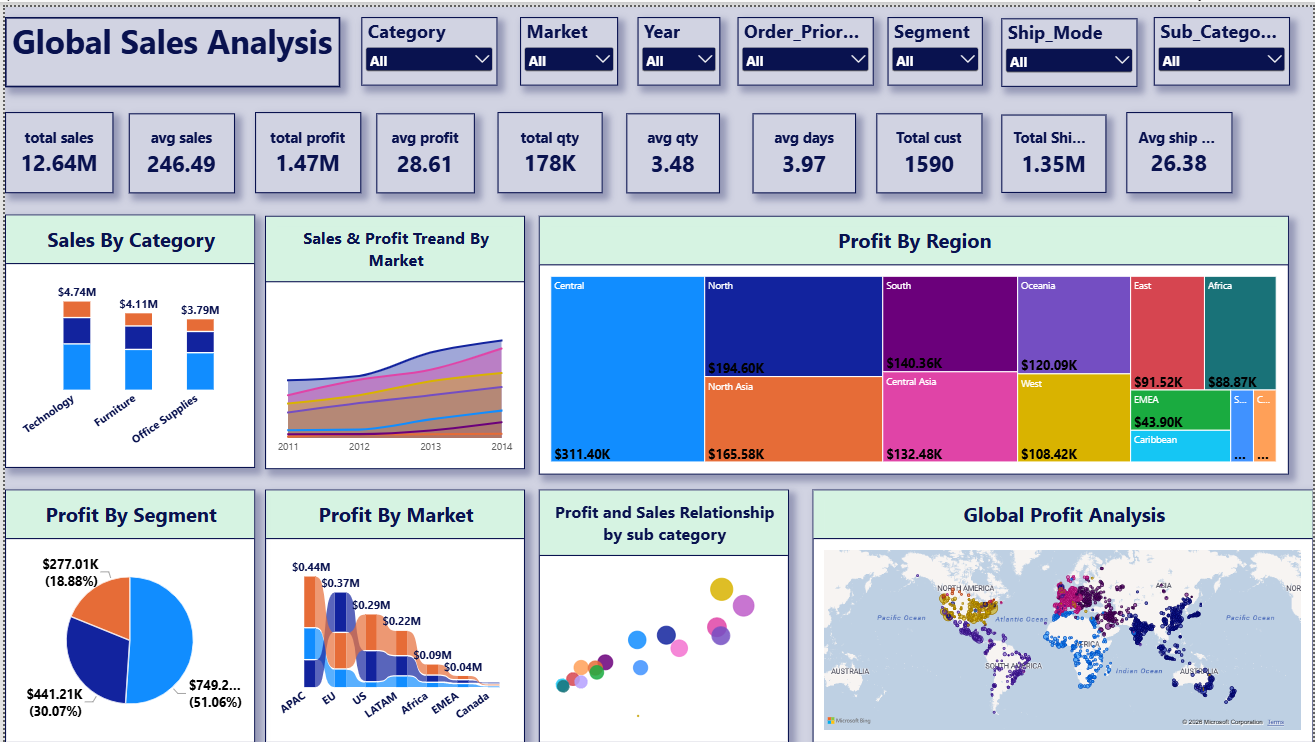

What the dashboard file says about the page in this screenshot:
{"tool":"powerbi","page":{"name":"Overall Dashboard","canvas":[1920,1080],"ordinal":0},"visuals":[{"type":"textbox","box":[0,14.4,491.9,102.9],"z":0},{"type":"slicer","fields":{"Values":["Global Superstore.Category"]},"box":[522.8,14.4,199.7,100.9],"z":1000},{"type":"slicer","fields":{"Values":["Global Superstore.Market"]},"box":[755.4,14.4,144.1,100.9],"z":2000},{"type":"slicer","fields":{"Values":["Global Superstore.Order_Date.Variation.Date Hierarchy.Year"]},"box":[928.3,14.4,121.4,100.9],"z":3000},{"type":"slicer","fields":{"Values":["Global Superstore.Order_Priority"]},"box":[1074.4,14.4,199.7,100.9],"z":4000},{"type":"slicer","fields":{"Values":["Global Superstore.Segment"]},"box":[1294.7,14.4,140,100.9],"z":5000},{"type":"slicer","fields":{"Values":["Global Superstore.Sub_Category"]},"box":[1685.8,14.4,199.7,100.9],"z":6000},{"type":"slicer","fields":{"Values":["Global Superstore.Ship_Mode"]},"box":[1461.4,16.5,199.7,100.9],"z":7000},{"type":"columnChart","title":"Sales By Category","fields":{"Category":["Global Superstore.Category"],"Series":["Global Superstore.Segment"],"Y":["Sum(Global Superstore.Sales)"]},"box":[0,304.5,366.8,372.4],"z":8000},{"type":"cardVisual","fields":{"Data":["Global Superstore.total sales"]},"box":[0,154.1,159.6,119.2],"z":9000},{"type":"cardVisual","fields":{"Data":["Global Superstore.avg sales"]},"box":[181.6,155.9,155.9,117.4],"z":10000},{"type":"cardVisual","fields":{"Data":["Global Superstore.total profit"]},"box":[366.8,154.1,155.9,119.2],"z":11000},{"type":"cardVisual","fields":{"Data":["Global Superstore.avg profit"]},"box":[544.8,155.9,144.9,117.4],"z":12000},{"type":"cardVisual","fields":{"Data":["Global Superstore.total qty"]},"box":[722.7,154.1,154.1,119.2],"z":13000},{"type":"cardVisual","fields":{"Data":["Global Superstore.avg qty"]},"box":[911.6,155.9,137.6,117.4],"z":14000},{"type":"cardVisual","fields":{"Data":["Global Superstore.avg days"]},"box":[1096.9,155.9,152.2,117.4],"z":15000},{"type":"cardVisual","fields":{"Data":["Global Superstore.Total cust"]},"box":[1278.5,155.9,155.9,117.4],"z":16000},{"type":"cardVisual","fields":{"Data":["Global Superstore.Total Shipcost"]},"box":[1461.9,157.7,154.1,115.6],"z":17000},{"type":"cardVisual","fields":{"Data":["Global Superstore.Avg ship cost"]},"box":[1645.3,154.1,155.9,119.2],"z":18000},{"type":"ribbonChart","title":"Profit By Market","fields":{"Category":["Global Superstore.Market"],"Series":["Global Superstore.Category"],"Y":["Sum(Global Superstore.Profit)"]},"box":[381.5,708,381.5,372.4],"z":19000},{"type":"treemap","title":"Profit By Region","fields":{"Group":["Global Superstore.Region"],"Values":["Sum(Global Superstore.Profit)"]},"box":[783.2,306.3,1100.5,379.7],"z":20000},{"type":"scatterChart","title":"Profit and Sales Relationship by sub category","fields":{"Category":["Global Superstore.Sub_Category"],"Series":["Global Superstore.Sub_Category"],"Size":["Sum(Global Superstore.Profit)"],"X":["Sum(Global Superstore.Sales)"],"Y":["Sum(Global Superstore.Profit)"]},"box":[783.2,708,366.8,372.4],"z":21000},{"type":"map","title":"Global Profit Analysis ","fields":{"Category":["Global Superstore.City","Global Superstore.Country"],"Series":["Global Superstore.Market"],"Size":["Sum(Global Superstore.Profit)"]},"box":[1184.9,708,735.5,372.4],"z":22000},{"type":"pieChart","title":"Profit By Segment","fields":{"Category":["Global Superstore.Segment"],"Y":["Sum(Global Superstore.Profit)"]},"box":[0,708,366.8,372.4],"z":23000},{"type":"areaChart","title":"Sales & Profit Treand By Market","fields":{"Category":["Global Superstore.Order_Date.Variation.Date Hierarchy.Year","Global Superstore.Order_Date.Variation.Date Hierarchy.Quarter","Global Superstore.Order_Date.Variation.Date Hierarchy.Month","Global Superstore.Order_Date.Variation.Date Hierarchy.Day"],"Series":["Global Superstore.Market"],"Y":["Sum(Global Superstore.Profit)"]},"box":[381.5,306.3,381.5,372.4],"z":24000}]}

Visuals, with their boxes in screenshot pixels (x1, y1, x2, y2), scaled from the page's 1920x1080 canvas onto the 1315x742 screenshot:
textbox: rect(0, 10, 337, 81)
slicer - Global Superstore.Category: rect(358, 10, 495, 79)
slicer - Global Superstore.Market: rect(517, 10, 616, 79)
slicer - Global Superstore.Order_Date.Variation.Date Hierarchy.Year: rect(636, 10, 719, 79)
slicer - Global Superstore.Order_Priority: rect(736, 10, 873, 79)
slicer - Global Superstore.Segment: rect(887, 10, 983, 79)
slicer - Global Superstore.Sub_Category: rect(1155, 10, 1291, 79)
slicer - Global Superstore.Ship_Mode: rect(1001, 11, 1138, 81)
"Sales By Category" columnChart: rect(0, 209, 251, 465)
cardVisual - Global Superstore.total sales: rect(0, 106, 109, 188)
cardVisual - Global Superstore.avg sales: rect(124, 107, 231, 188)
cardVisual - Global Superstore.total profit: rect(251, 106, 358, 188)
cardVisual - Global Superstore.avg profit: rect(373, 107, 472, 188)
cardVisual - Global Superstore.total qty: rect(495, 106, 601, 188)
cardVisual - Global Superstore.avg qty: rect(624, 107, 719, 188)
cardVisual - Global Superstore.avg days: rect(751, 107, 856, 188)
cardVisual - Global Superstore.Total cust: rect(876, 107, 982, 188)
cardVisual - Global Superstore.Total Shipcost: rect(1001, 108, 1107, 188)
cardVisual - Global Superstore.Avg ship cost: rect(1127, 106, 1234, 188)
"Profit By Market" ribbonChart: rect(261, 486, 523, 741)
"Profit By Region" treemap: rect(536, 210, 1290, 471)
"Profit and Sales Relationship by sub category" scatterChart: rect(536, 486, 788, 741)
"Global Profit Analysis " map: rect(812, 486, 1314, 741)
"Profit By Segment" pieChart: rect(0, 486, 251, 741)
"Sales & Profit Treand By Market" areaChart: rect(261, 210, 523, 466)
